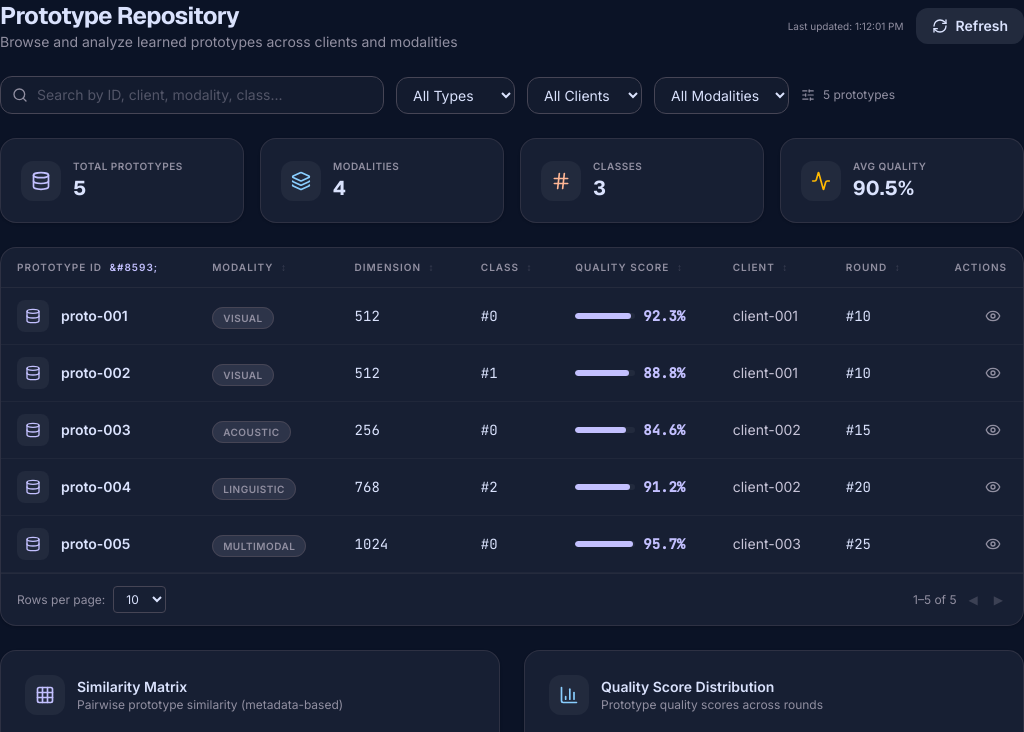
Prototypes › Empty State › shows empty state when search yields no results
Type "nonexistent_prototype" into the field with placeholder "Search by ID, client, modality, class..." at x=192, y=95, box [0,76,384,114]
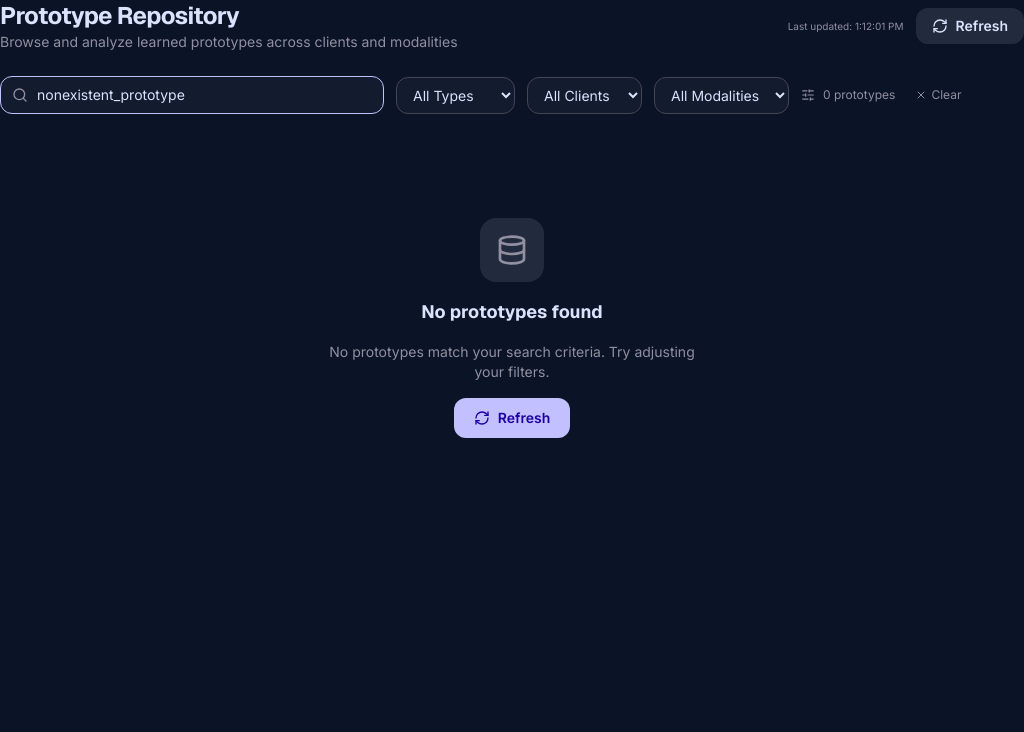
expect the heading "No prototypes found" is shown: met, box [421,298,603,326]
